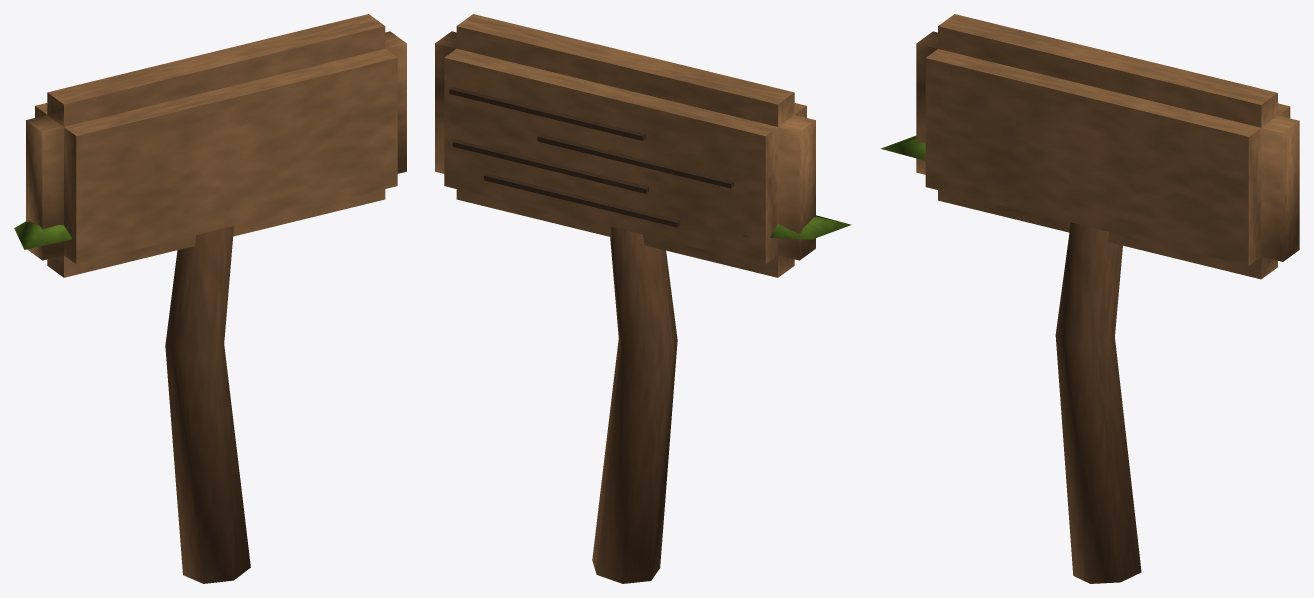
The model's file is ring-grove-sign.fbx.
3 views of the same model, side by side, from view 1: azimuth 30°, elevation 25°; view 2: azimuth 150°, elevation 25°; view 3: azimuth 330°, elevation 25° (orthographic).
Parts seen in each view (by area): view 1: ring-grove-sign__Geometry; view 2: ring-grove-sign__Geometry; view 3: ring-grove-sign__Geometry.
Part boxes in pixels (<box>): ring-grove-sign__Geometry: <box>14,14,406,583</box>; ring-grove-sign__Geometry: <box>435,14,851,583</box>; ring-grove-sign__Geometry: <box>881,14,1299,583</box>.
Size of the model in its own units: 0.7087 by 0.8853 by 0.14.
